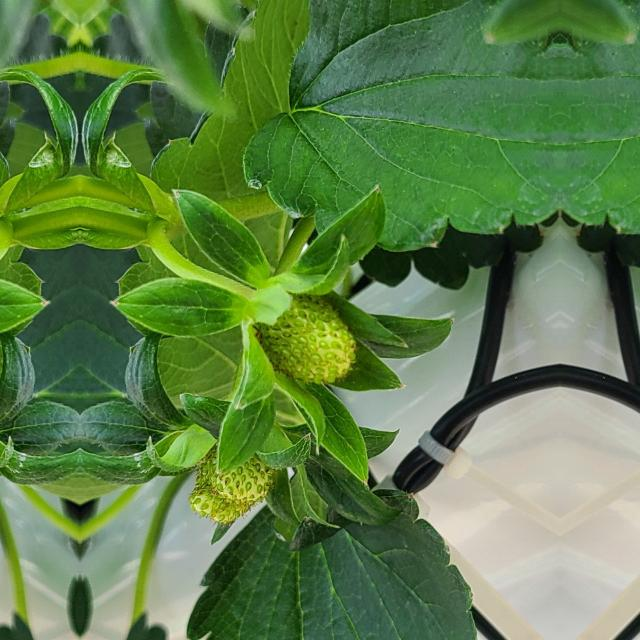Health_25: (257, 295, 355, 383), (187, 439, 279, 525)
